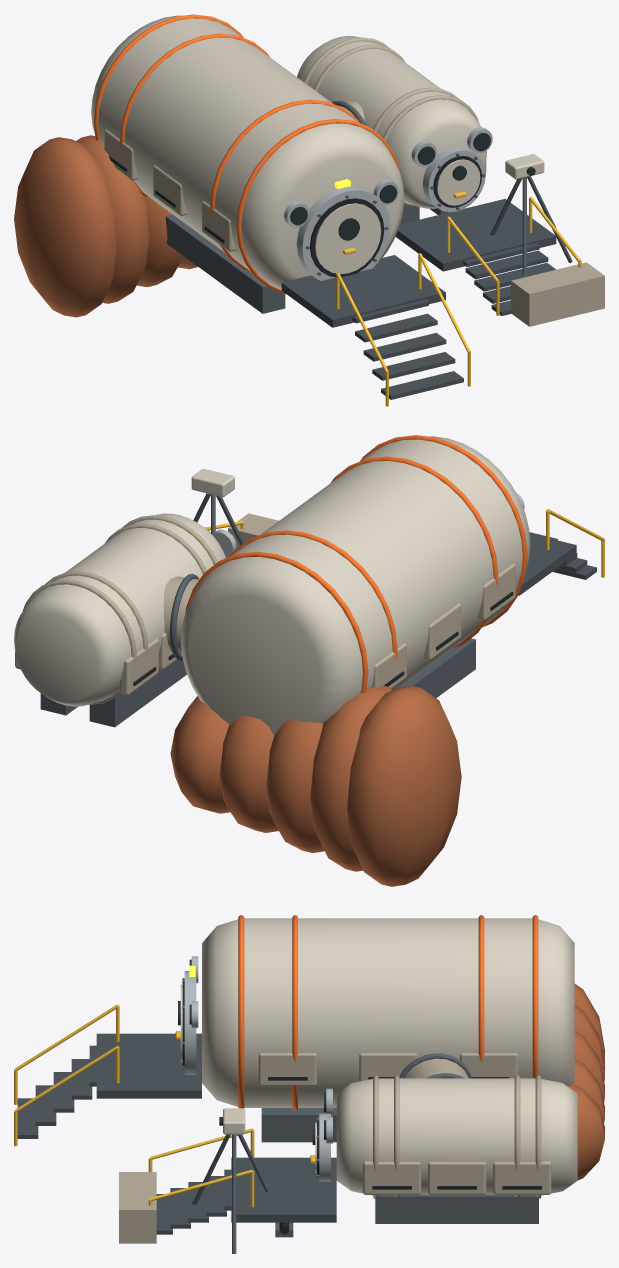
File: base-boss-pathfinder.glb
3 views of the same model, one above another, from view 1: azimuth 30°, elevation 25°; view 2: azimuth 150°, elevation 25°; view 3: azimuth 270°, elevation 25° (orthographic). The views are drawn at different scales.
Visible parts, largest first — view 1: base-boss-pathfinder-warm-ceramic-insulation, base-boss-pathfinder-mars-dust, base-boss-pathfinder-floor-grate, base-boss-pathfinder-oatmeal-thermal-blanket, base-boss-pathfinder-dark-steel, base-boss-pathfinder-safety-orange, base-boss-pathfinder-aluminium, base-boss-pathfinder-hazard-yellow, base-boss-pathfinder-dark-polymer, base-boss-pathfinder-shadowed-pressure-glass; view 2: base-boss-pathfinder-warm-ceramic-insulation, base-boss-pathfinder-mars-dust, base-boss-pathfinder-oatmeal-thermal-blanket, base-boss-pathfinder-dark-steel, base-boss-pathfinder-safety-orange, base-boss-pathfinder-floor-grate, base-boss-pathfinder-hazard-yellow; view 3: base-boss-pathfinder-warm-ceramic-insulation, base-boss-pathfinder-floor-grate, base-boss-pathfinder-oatmeal-thermal-blanket, base-boss-pathfinder-dark-steel, base-boss-pathfinder-mars-dust, base-boss-pathfinder-safety-orange, base-boss-pathfinder-hazard-yellow, base-boss-pathfinder-aluminium, base-boss-pathfinder-dark-polymer.
Part boxes in pixels (<box>): base-boss-pathfinder-warm-ceramic-insulation: <box>91,15,544,289</box>; base-boss-pathfinder-mars-dust: <box>14,135,197,317</box>; base-boss-pathfinder-floor-grate: <box>281,198,556,399</box>; base-boss-pathfinder-oatmeal-thermal-blanket: <box>104,37,604,326</box>; base-boss-pathfinder-dark-steel: <box>165,101,572,313</box>; base-boss-pathfinder-safety-orange: <box>93,14,400,294</box>; base-boss-pathfinder-aluminium: <box>284,127,492,280</box>; base-boss-pathfinder-hazard-yellow: <box>336,191,581,406</box>; base-boss-pathfinder-dark-polymer: <box>108,155,481,277</box>; base-boss-pathfinder-shadowed-pressure-glass: <box>290,133,535,240</box>; base-boss-pathfinder-warm-ceramic-insulation: <box>14,436,530,735</box>; base-boss-pathfinder-mars-dust: <box>170,685,461,886</box>; base-boss-pathfinder-oatmeal-thermal-blanket: <box>15,513,515,704</box>; base-boss-pathfinder-dark-steel: <box>40,493,475,727</box>; base-boss-pathfinder-safety-orange: <box>185,435,527,693</box>; base-boss-pathfinder-floor-grate: <box>518,532,596,595</box>; base-boss-pathfinder-hazard-yellow: <box>204,509,604,577</box>; base-boss-pathfinder-warm-ceramic-insulation: <box>180,918,577,1195</box>; base-boss-pathfinder-floor-grate: <box>17,1033,336,1234</box>; base-boss-pathfinder-oatmeal-thermal-blanket: <box>119,1053,551,1243</box>; base-boss-pathfinder-dark-steel: <box>182,978,538,1253</box>; base-boss-pathfinder-mars-dust: <box>568,983,604,1180</box>; base-boss-pathfinder-safety-orange: <box>238,915,538,1110</box>; base-boss-pathfinder-hazard-yellow: <box>14,1004,315,1207</box>; base-boss-pathfinder-aluminium: <box>184,956,332,1181</box>; base-boss-pathfinder-dark-polymer: <box>182,982,541,1234</box>.
Size of the model in its own units: 7.41 by 4.74 by 9.2.
